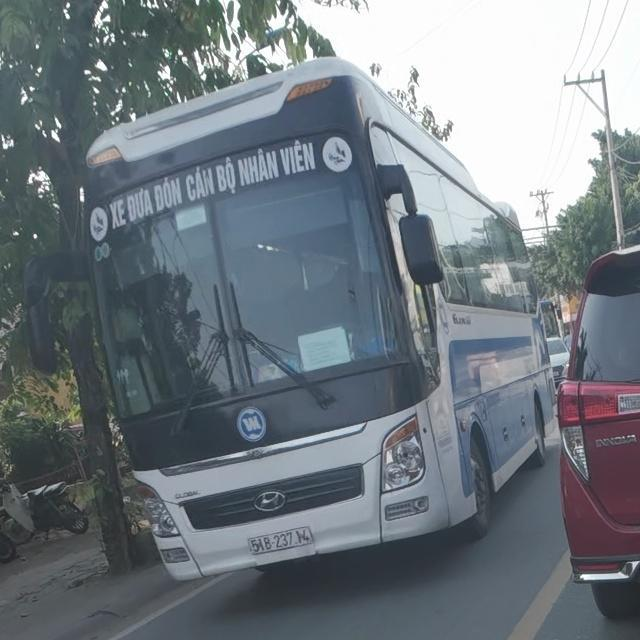car: (76, 51, 552, 588), (560, 251, 640, 627)
plate: (247, 524, 324, 560)
